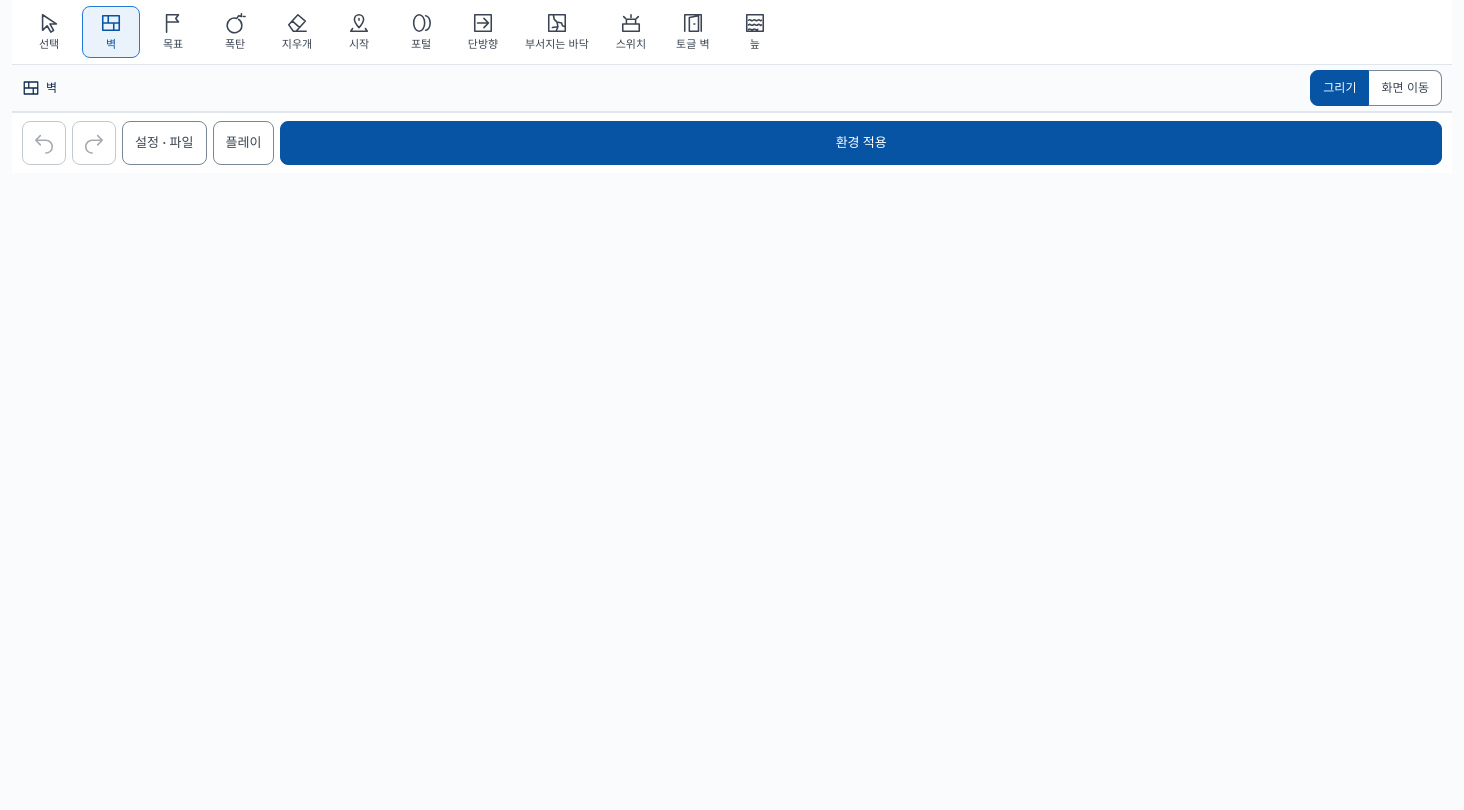
Test case: phone Settings · Files sheet › Element tab shows tool settings for the active placement tool
What coordinates should you click on to do the following:
click the button with test id "env-editor-mode-portal"
I would click on:
 (421, 32)
Its box is left=392, top=6, right=450, bottom=58.
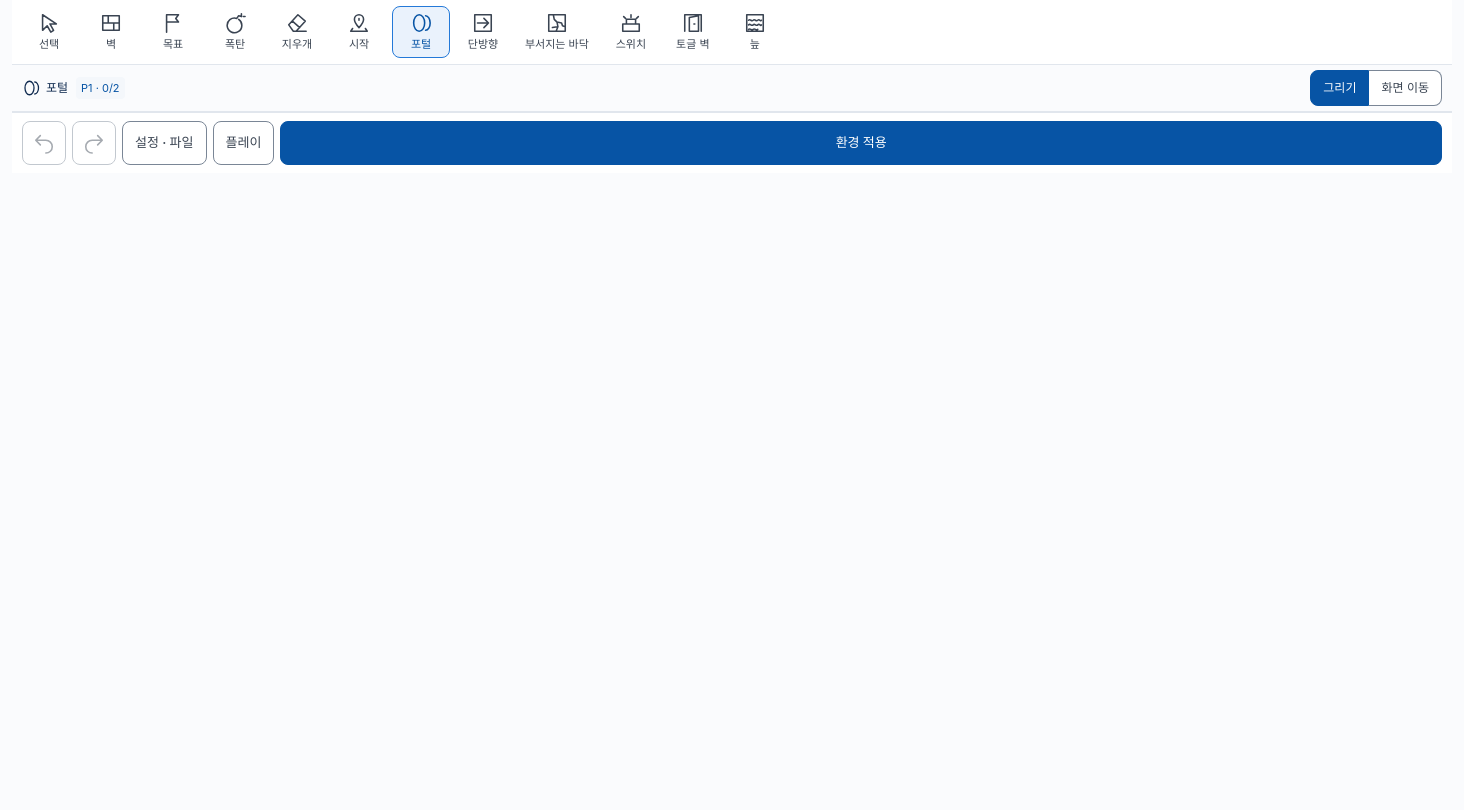
What coordinates should you click on to do the following:
click the button with test id "properties-toggle"
I would click on:
 (164, 143)
Its box is left=122, top=121, right=206, bottom=165.
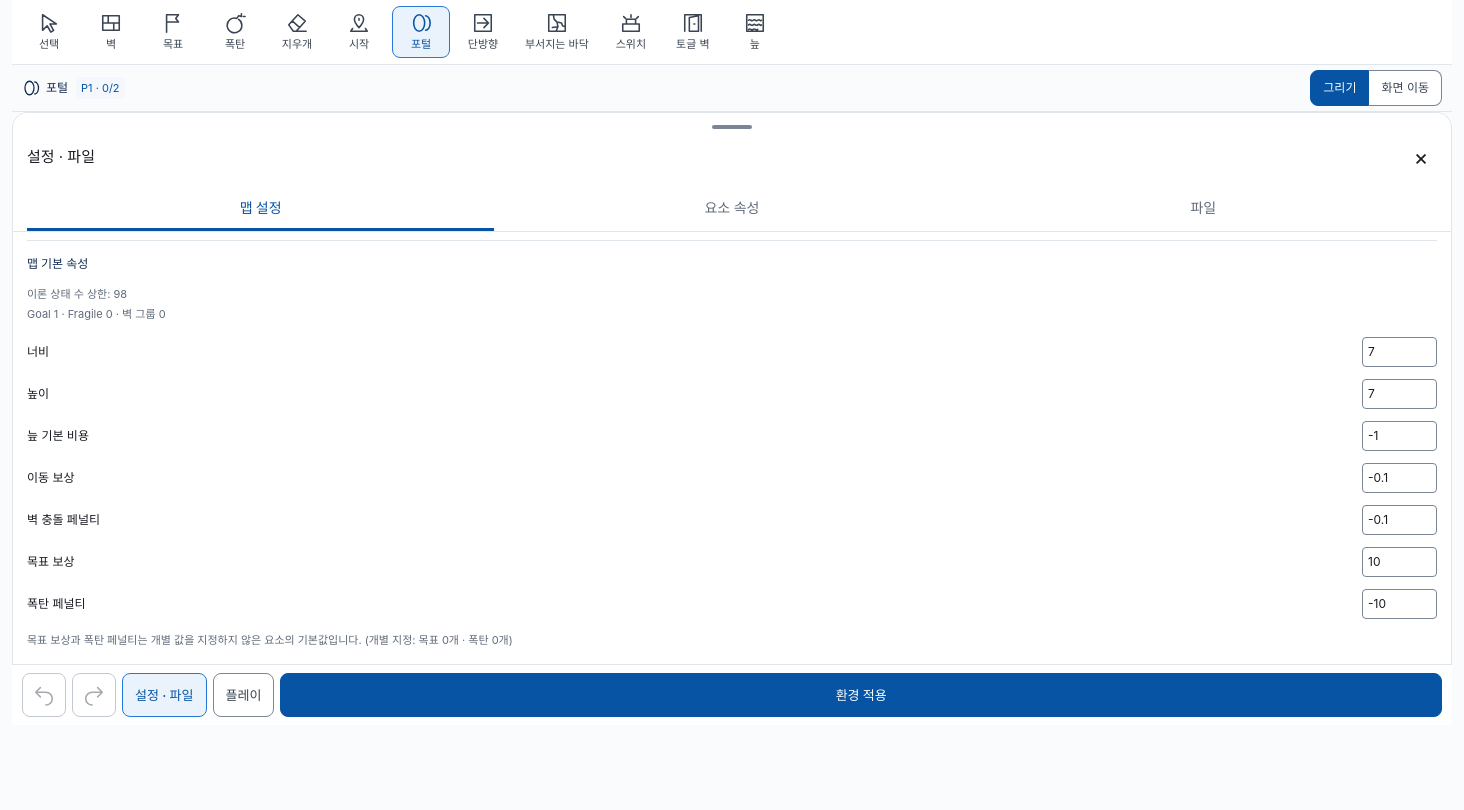
What coordinates should you click on to do the following:
click the tab with test id "sheet-tab-element"
I would click on:
 (732, 209)
Its box is left=498, top=187, right=966, bottom=231.
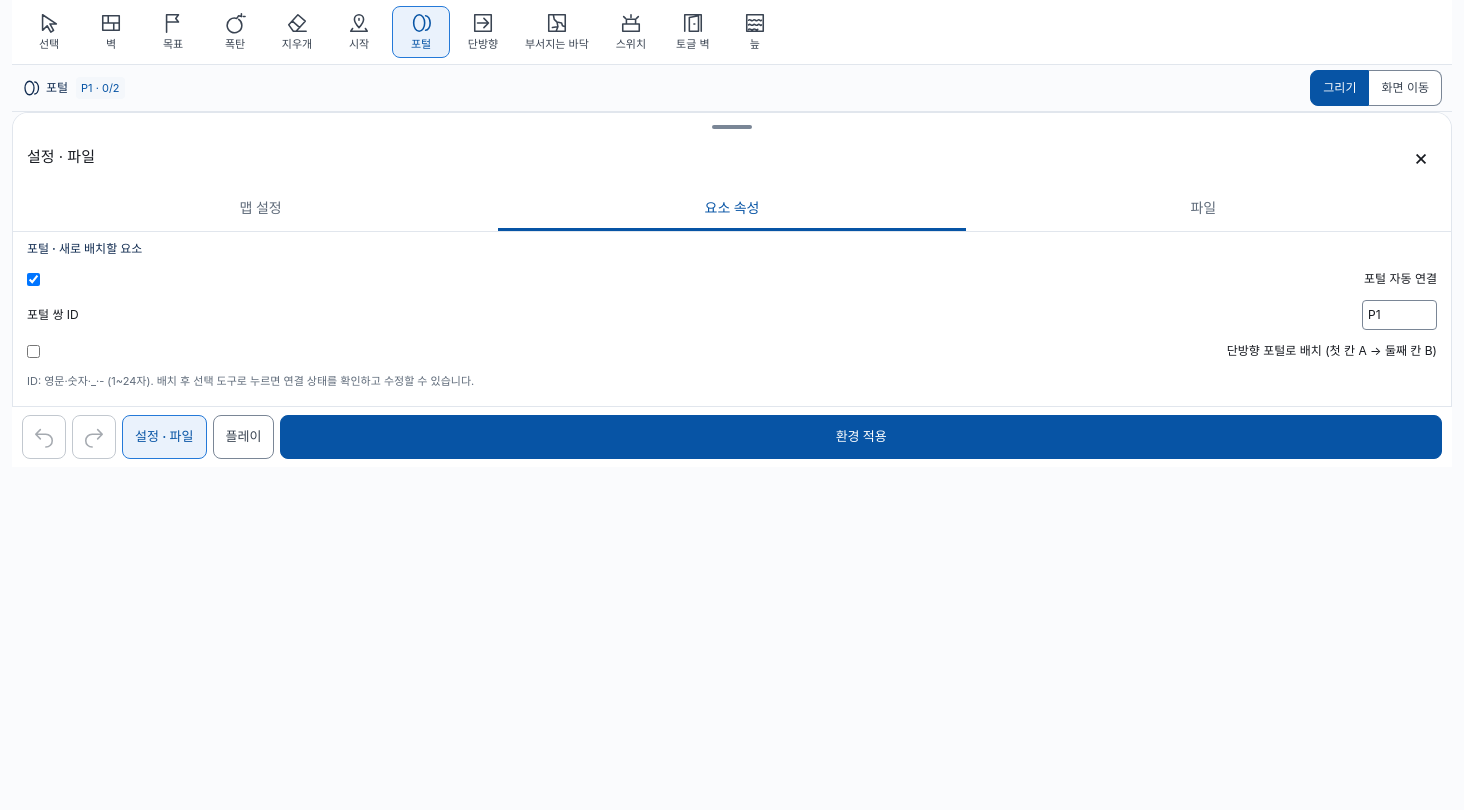
Expected: the field with test id "portal-id" is shown, left=1362, top=300, right=1437, bottom=330
Expected: the checkbox with test id "portal-directed-tool" is shown, left=27, top=344, right=40, bottom=358
